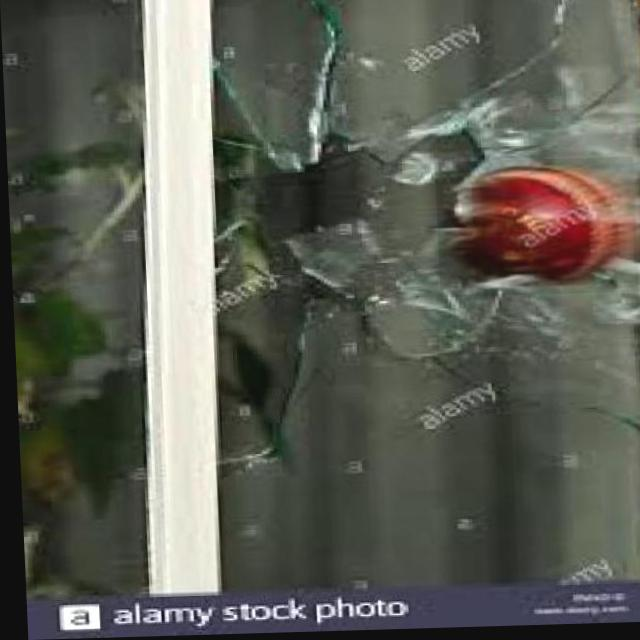-: (433, 160, 636, 300)
